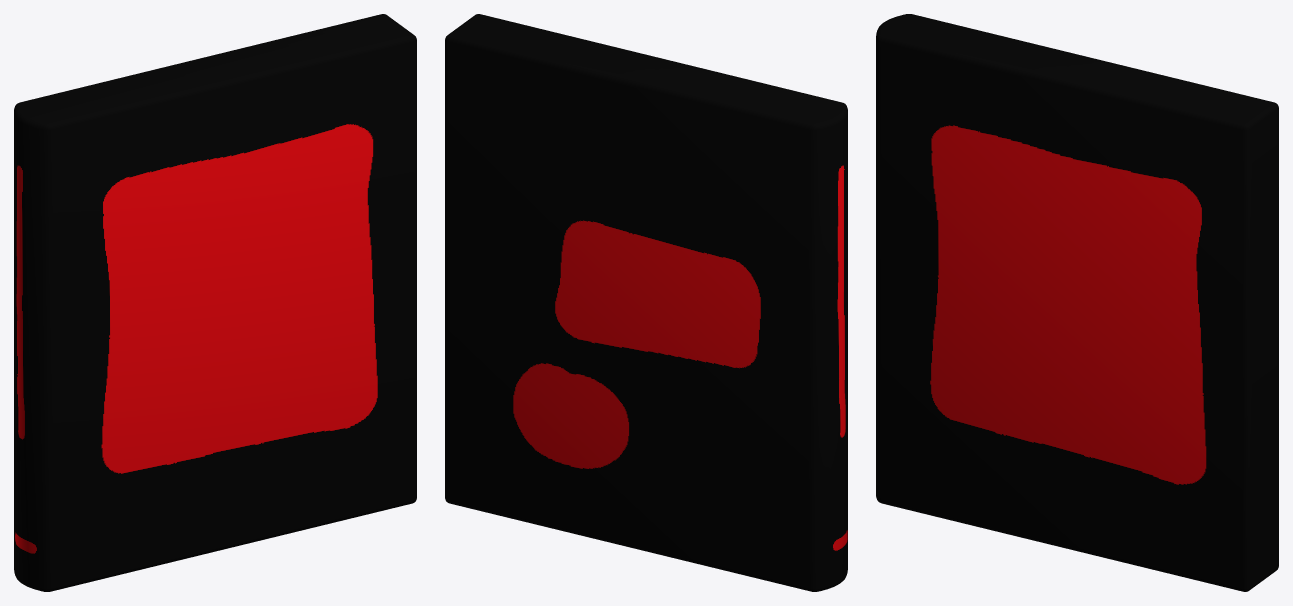
The model's file is MaterialEditorMesh.glb.
3 views of the same model, side by side, from view 1: azimuth 30°, elevation 25°; view 2: azimuth 150°, elevation 25°; view 3: azimuth 330°, elevation 25° (orthographic).
Parts seen in each view (by area): view 1: Cube; view 2: Cube; view 3: Cube.
Part boxes in pixels (x1,y1,x2,y2): Cube: (14,14,416,591); Cube: (445,14,847,591); Cube: (876,14,1278,591).
Bounding box in the file's own units: 2.12 × 2.48 × 0.32.
Materials: 1 (1 with a texture image).
